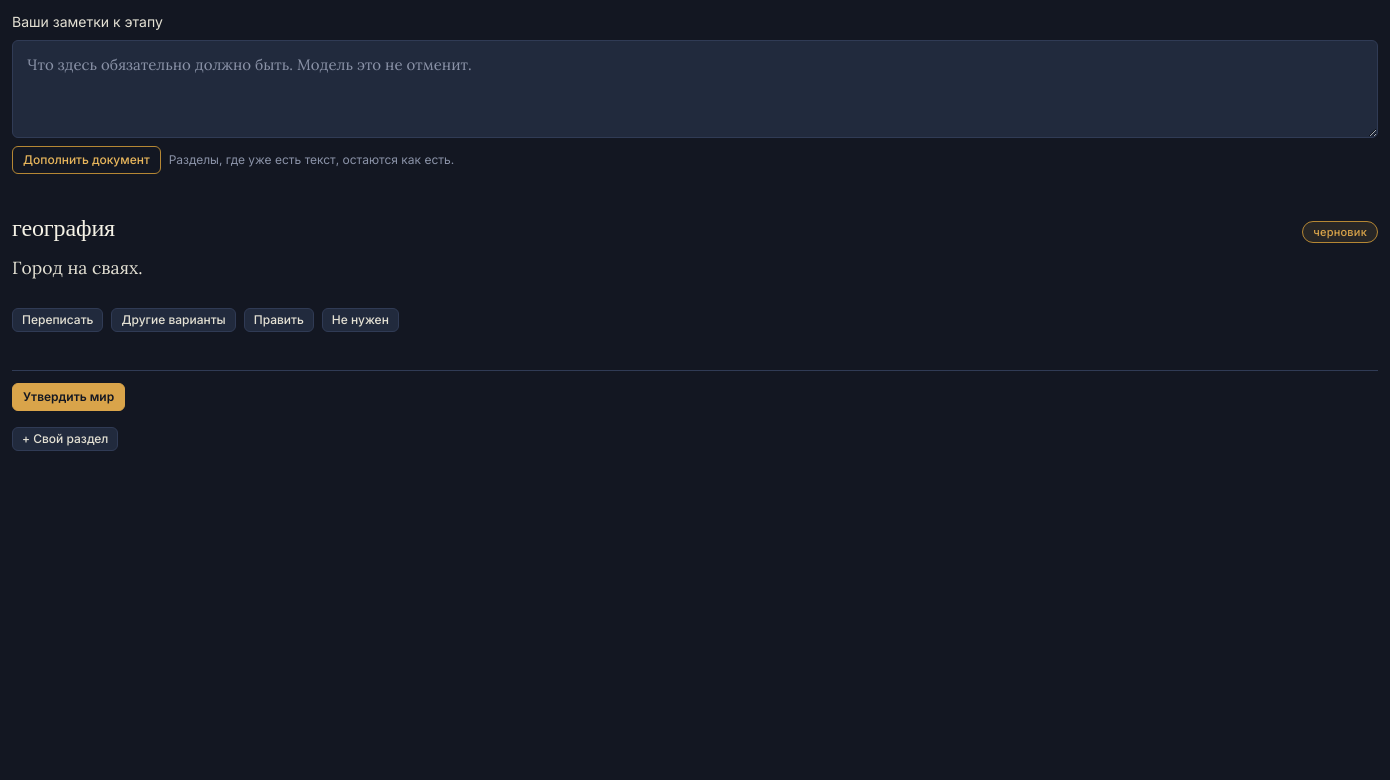
it: DocumentStageRunner › конфликт ревизии не затирает чужую правку раздела
Step 1. Click the button "Править" → coordinates (279, 320), box [244,308,314,332]
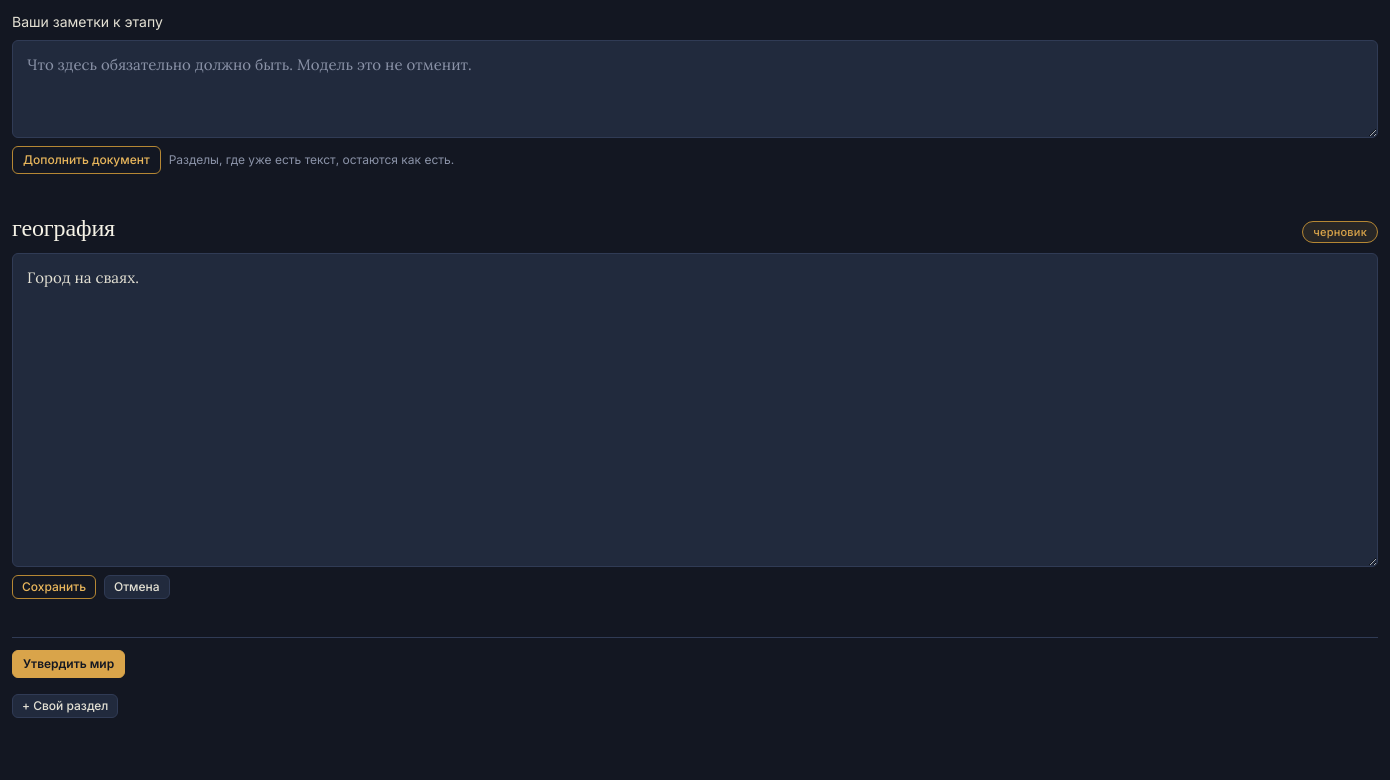
Step 2. Click the button "Сохранить" → coordinates (54, 587), box [12,575,96,599]
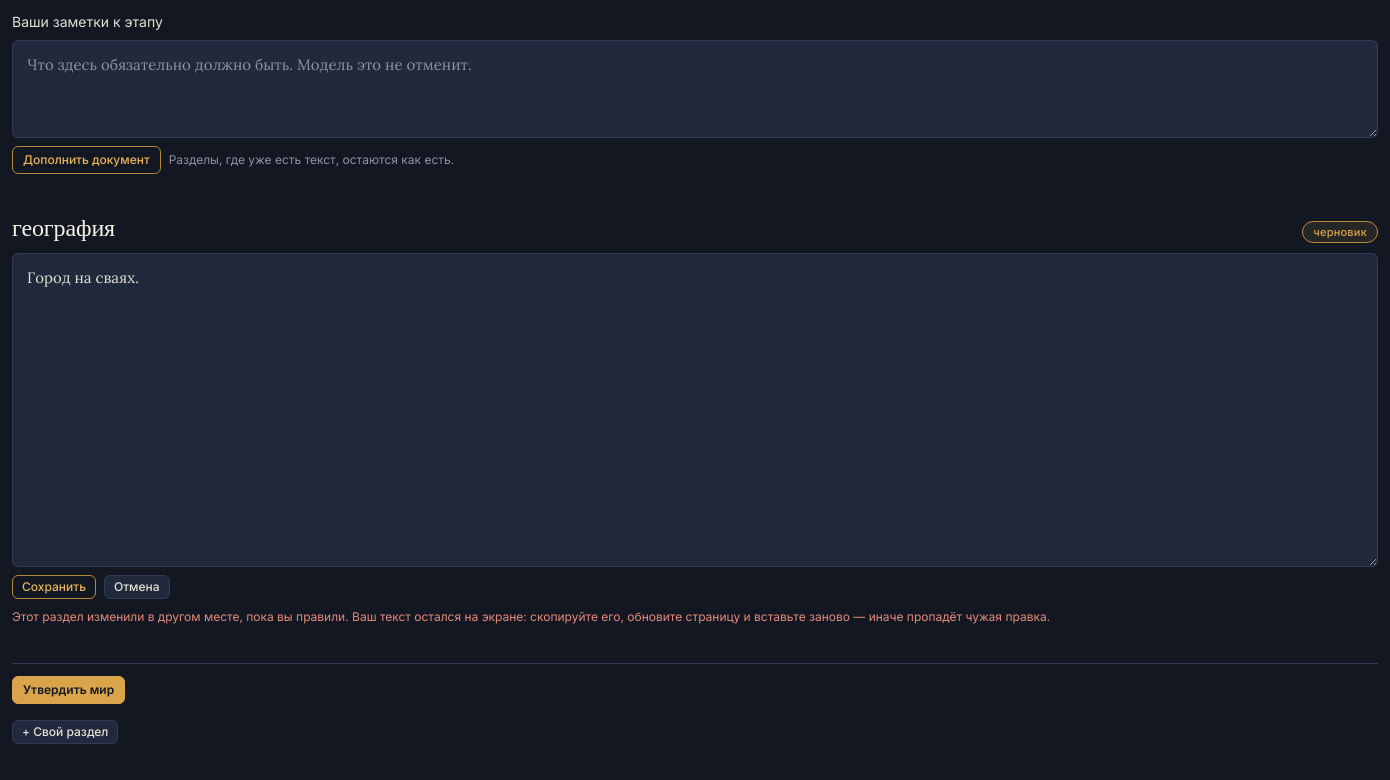
Check: the message shows "изменили в другом месте", box [12,609,1050,624]
